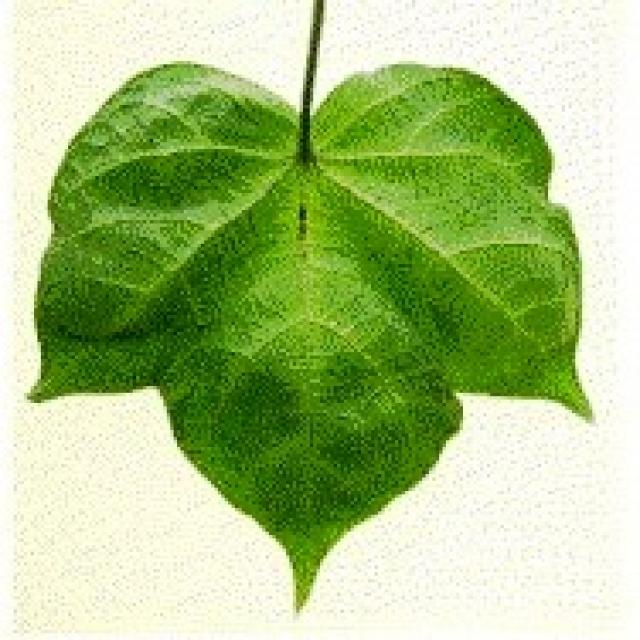Leaf Curl Virus: (135, 92, 442, 407)
